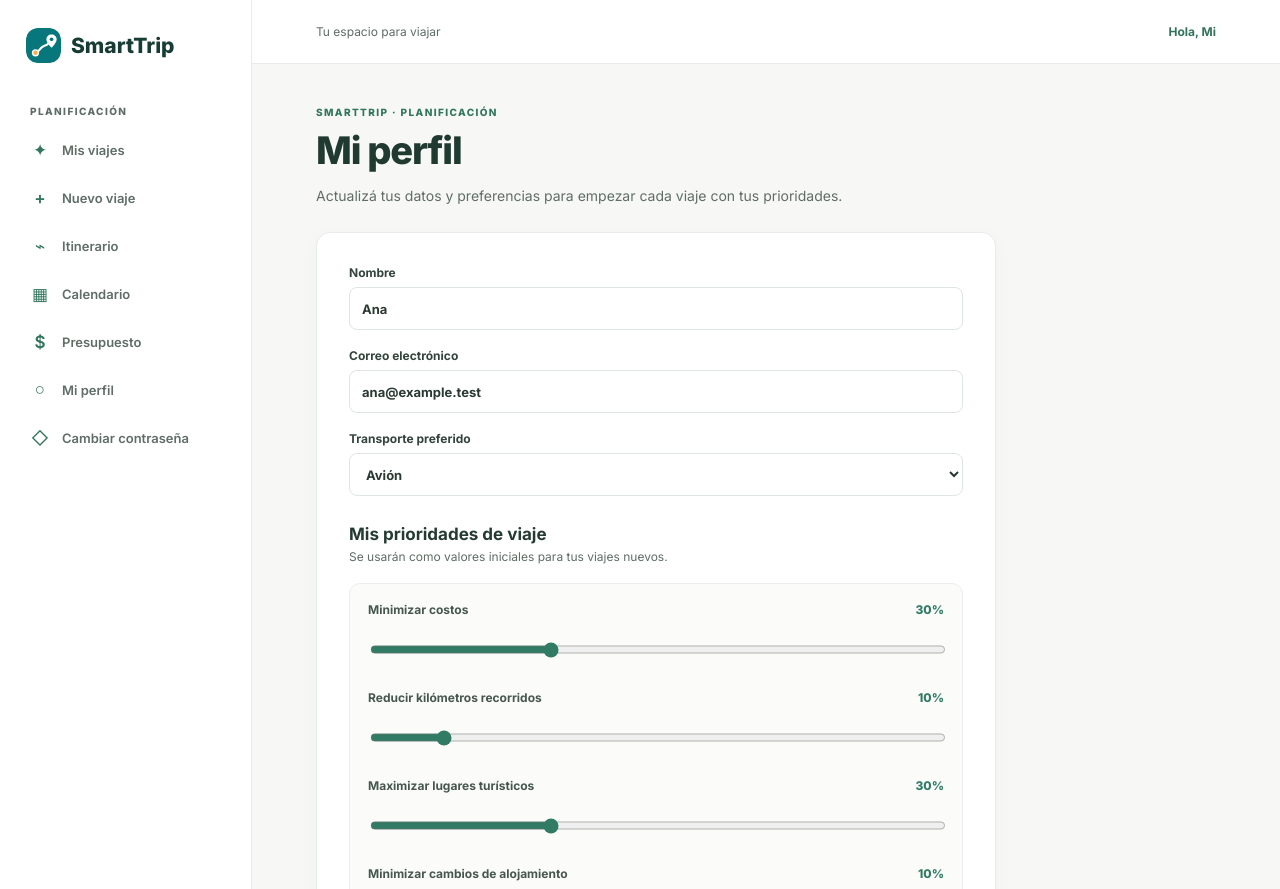
Test: Profile › guarda transporte y prioridades, y actualiza el usuario guardado
The width and height of the screenshot is (1280, 889).
Later steps or results of the test are not shown.
Select "Auto" in the dropdown labelled "Transporte preferido": (656, 474) [349,453,963,496]
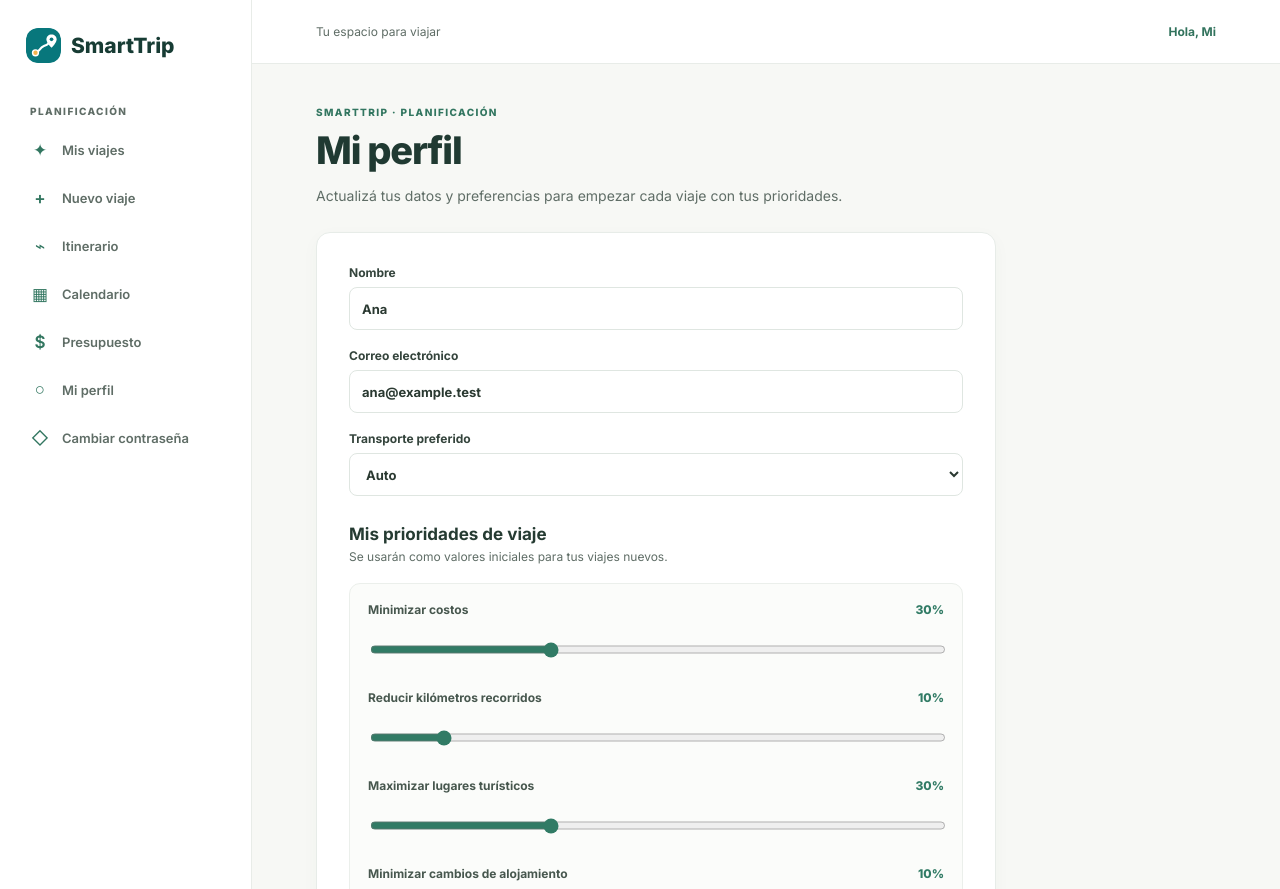
Set the slider named "Minimizar costos" to "50": (658, 650) [370,628,946,671]
(page scrolled)
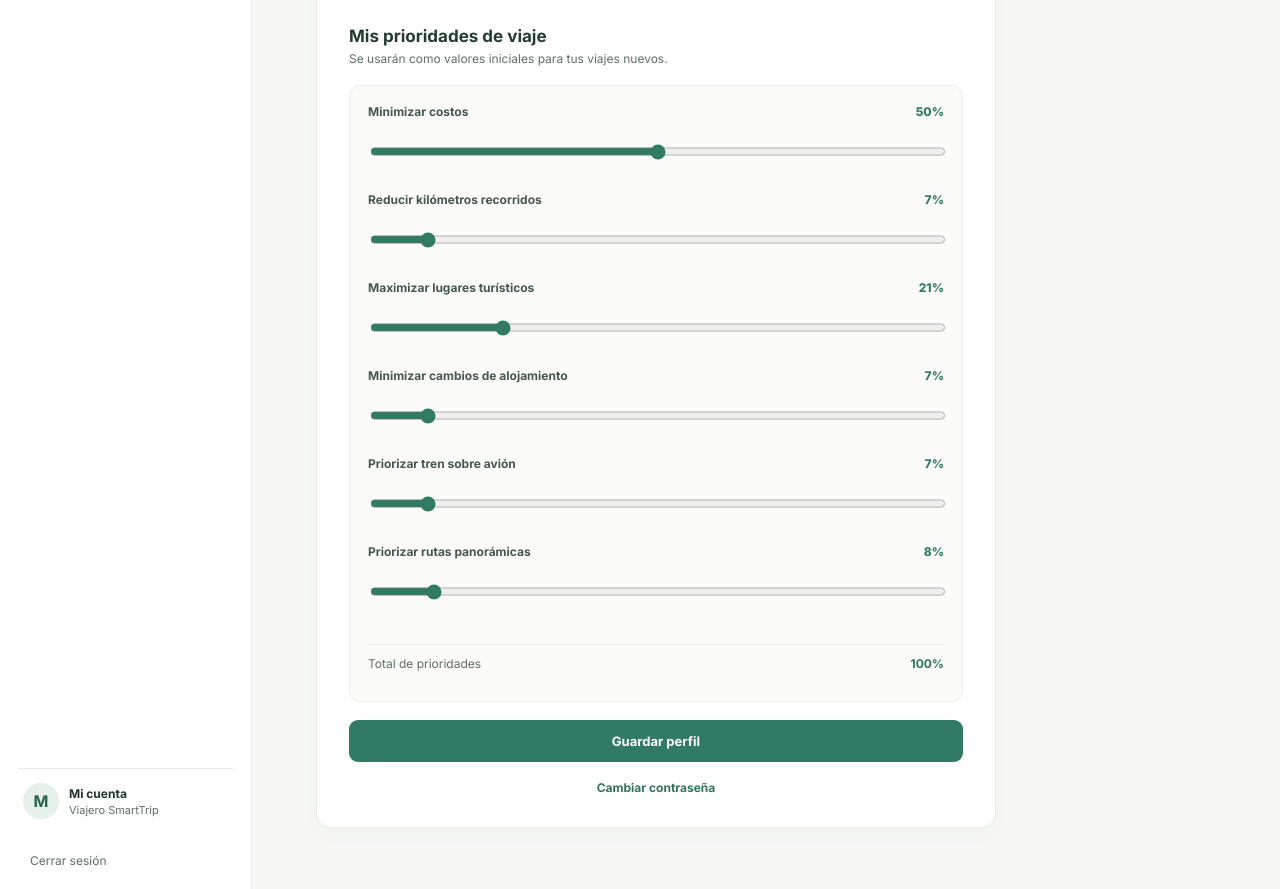
Click the button "Guardar perfil": (656, 741) [349,720,963,762]
(page scrolled)
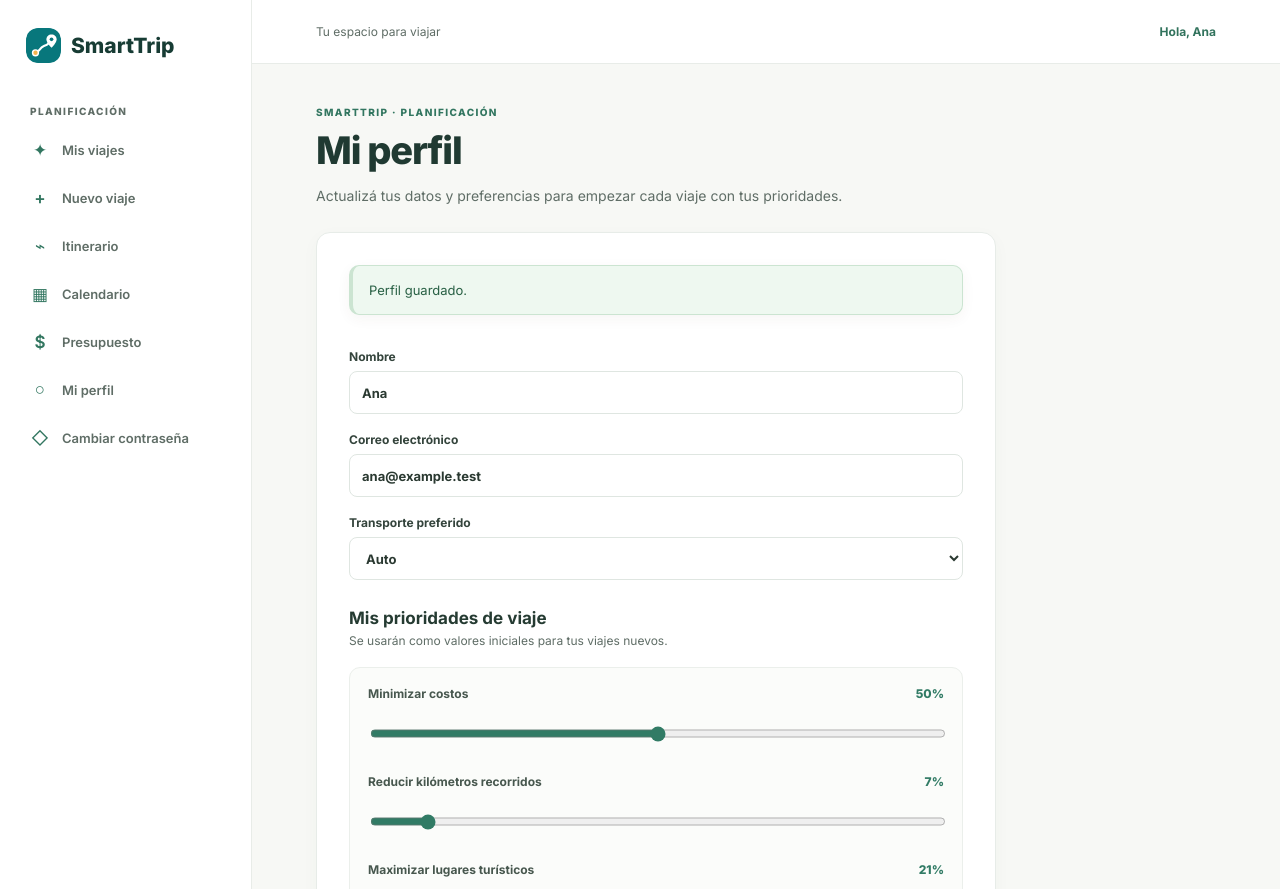
Now the text "Perfil guardado." is shown, box [349,265,963,315]
